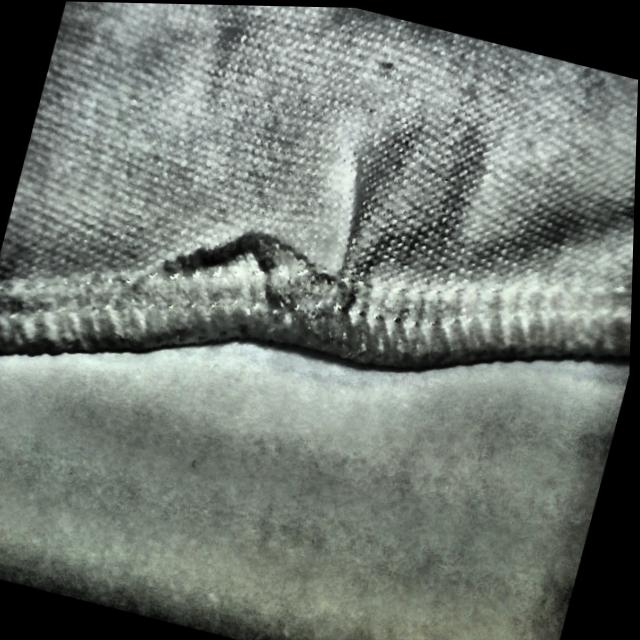seam: (151, 117, 413, 371)
